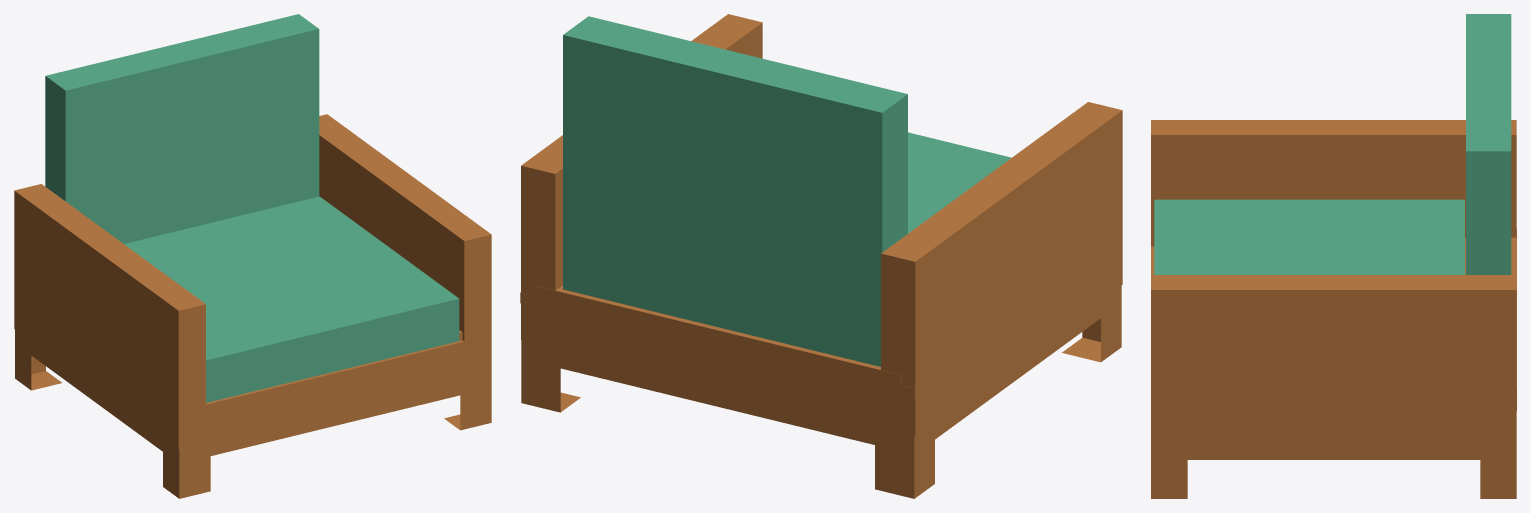
The model's file is armchair.obj.
The picture shows the model from 3 angles, left to right: view 1: azimuth 30°, elevation 25°; view 2: azimuth 150°, elevation 25°; view 3: azimuth 270°, elevation 25°; orthographic projection. The views are drawn at different scales.
Parts seen in each view (by area): view 1: polySurface6; view 2: polySurface6; view 3: polySurface6.
Part boxes in pixels (left/top/right/bottom): polySurface6: left=14, top=14, right=491, bottom=498; polySurface6: left=520, top=14, right=1122, bottom=498; polySurface6: left=1151, top=14, right=1516, bottom=498.
Bounding box in the file's own units: 0.956 × 0.8678 × 0.8695.
Materials: 4 (4 with a texture image).
